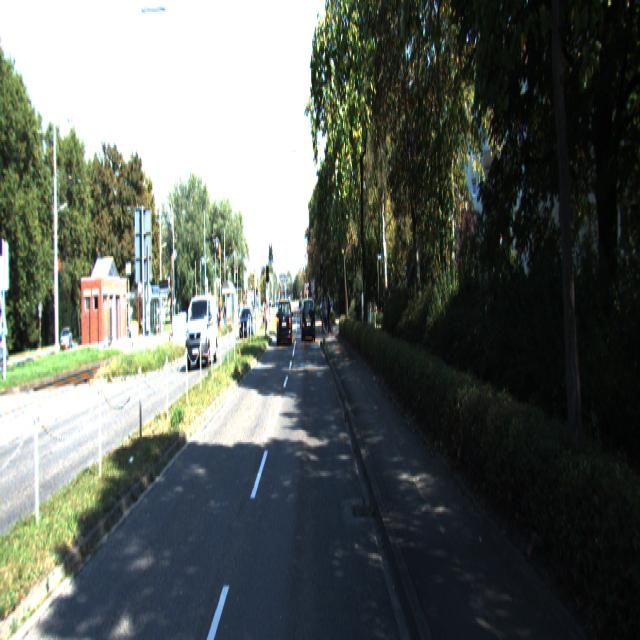Car: (277, 300, 293, 348), (302, 298, 316, 343), (239, 308, 253, 340)
DontCare: (318, 288, 335, 333), (56, 318, 76, 352)
Van: (186, 295, 219, 369)
